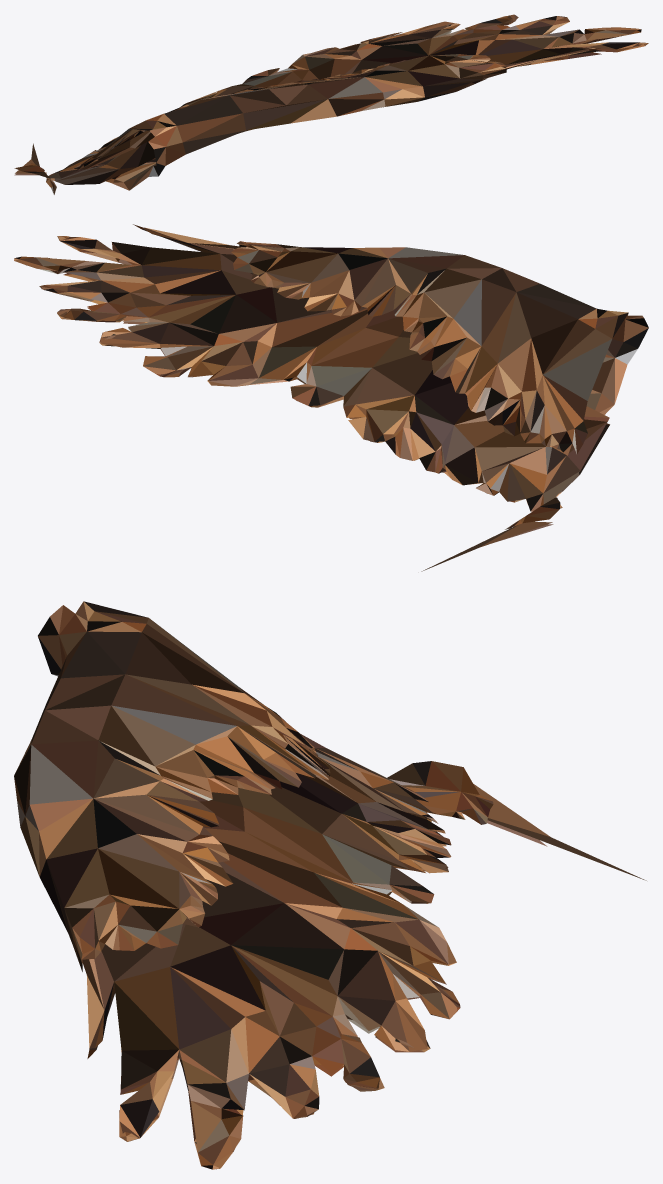
Rendered from ala_izquierda.obj.
The picture shows the model from 3 angles, top to bottom: view 1: azimuth 30°, elevation 25°; view 2: azimuth 150°, elevation 25°; view 3: azimuth 270°, elevation 25°; orthographic projection. The views are drawn at different scales.
Visible parts, largest first — view 1: Ala_Izqioerda; view 2: Ala_Izqioerda; view 3: Ala_Izqioerda.
Boxes of the visible parts, x1=… form: Ala_Izqioerda: x1=14, y1=14, x2=648, y2=194; Ala_Izqioerda: x1=14, y1=224, x2=648, y2=571; Ala_Izqioerda: x1=14, y1=601, x2=646, y2=1169.
Bounding box in the file's own units: 25.33 × 6.03 × 13.57.
